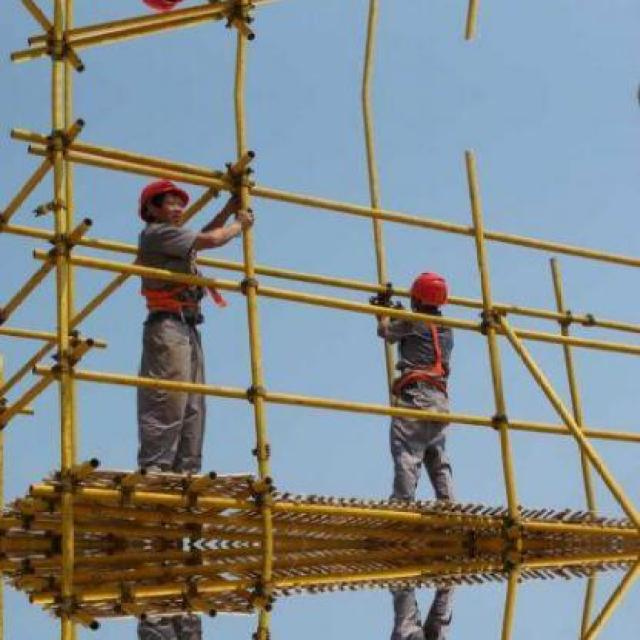helmet: (133, 176, 193, 227), (408, 264, 450, 320), (132, 0, 193, 15)
